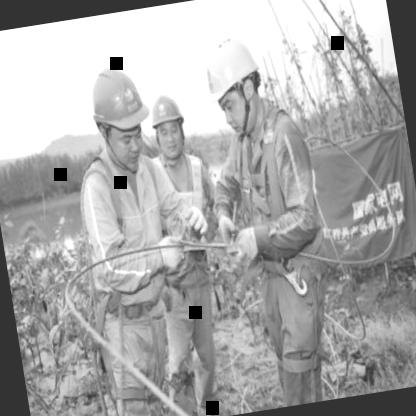helmet: (194, 24, 276, 144), (84, 52, 158, 174), (143, 84, 193, 164)
